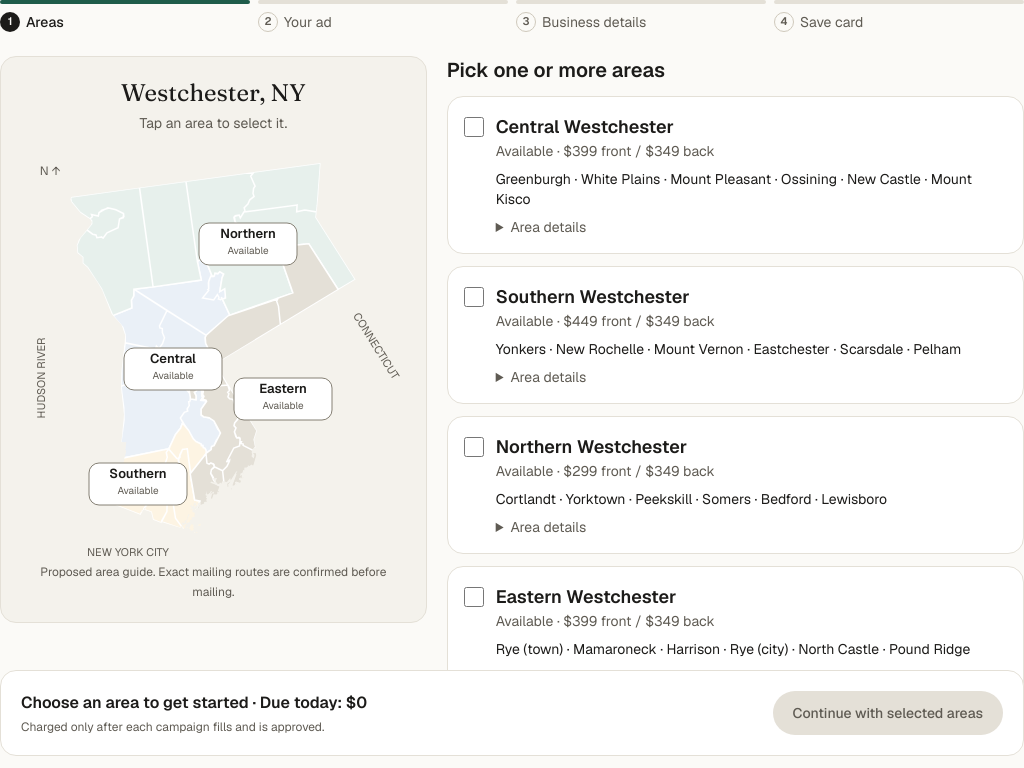
Test: different campaign prices produce a correct multi-area authorization
This screenshot has width=1024, height=768.
Step 1. Click the checkbox labelled "Central" → (474, 127), box 464,117 -> 484,137
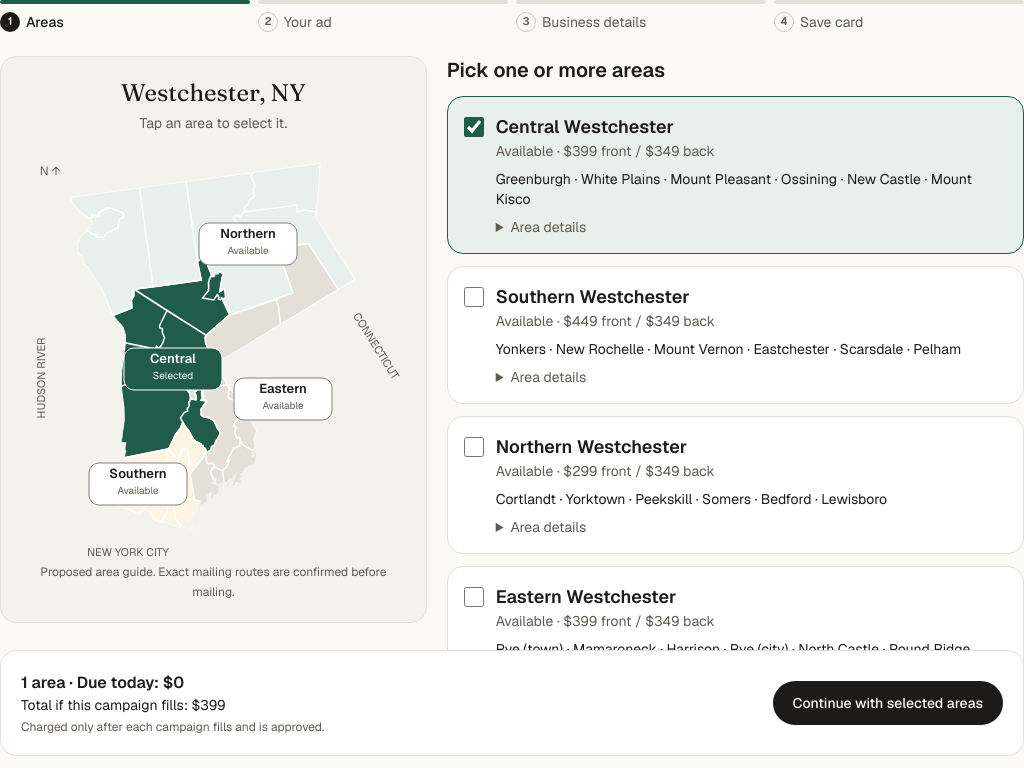
Step 2. Click the checkbox labelled "Southern" → (474, 297), box 464,287 -> 484,307
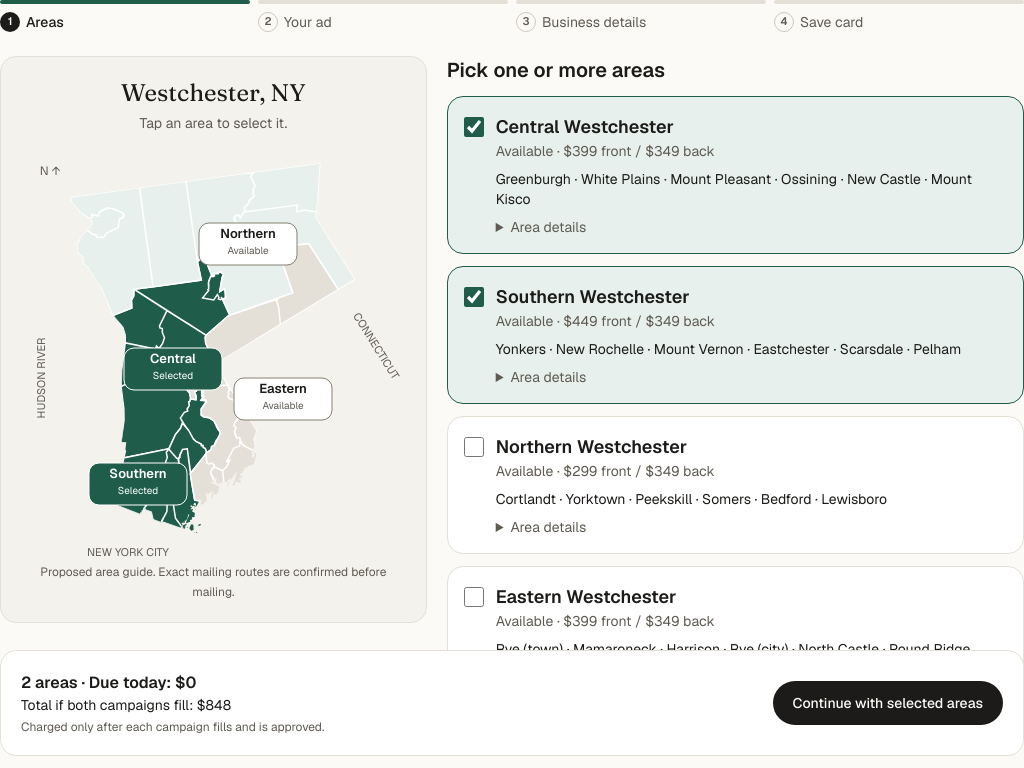
Step 3. Click the checkbox labelled "Northern" → (474, 447), box 464,437 -> 484,457
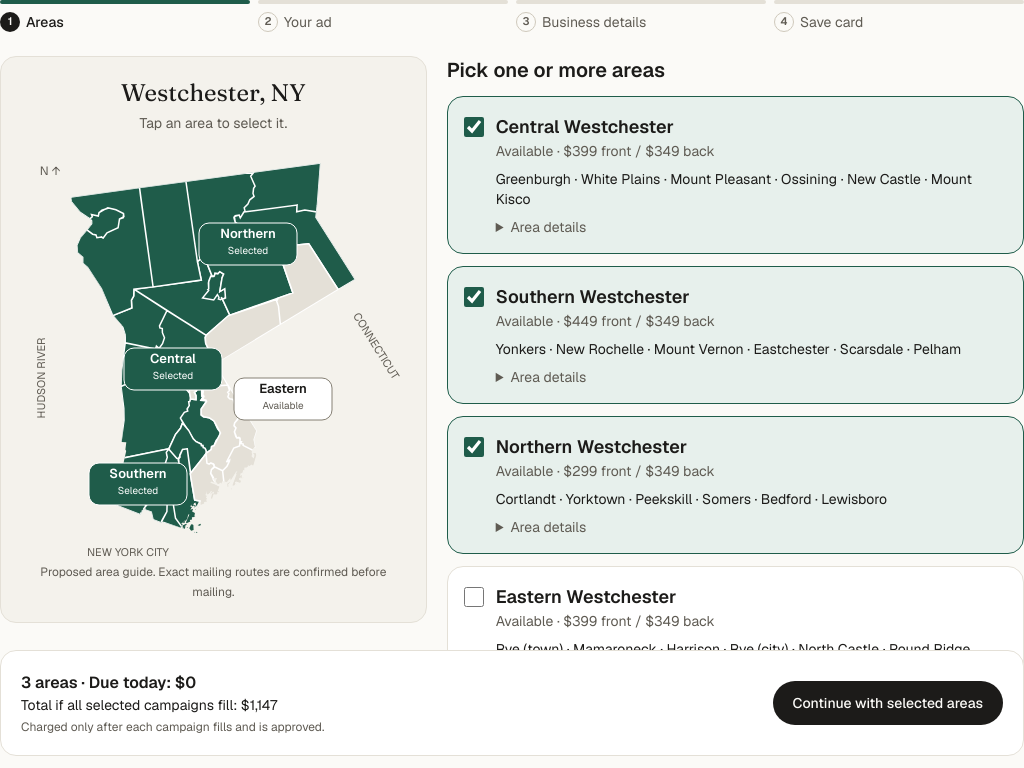
Expected: the text "Due today: $0" is shown, 89,672 -> 196,693
Now the text "Total if all selected campaigns fill: $1,147" is shown, box 21,696 -> 277,714
